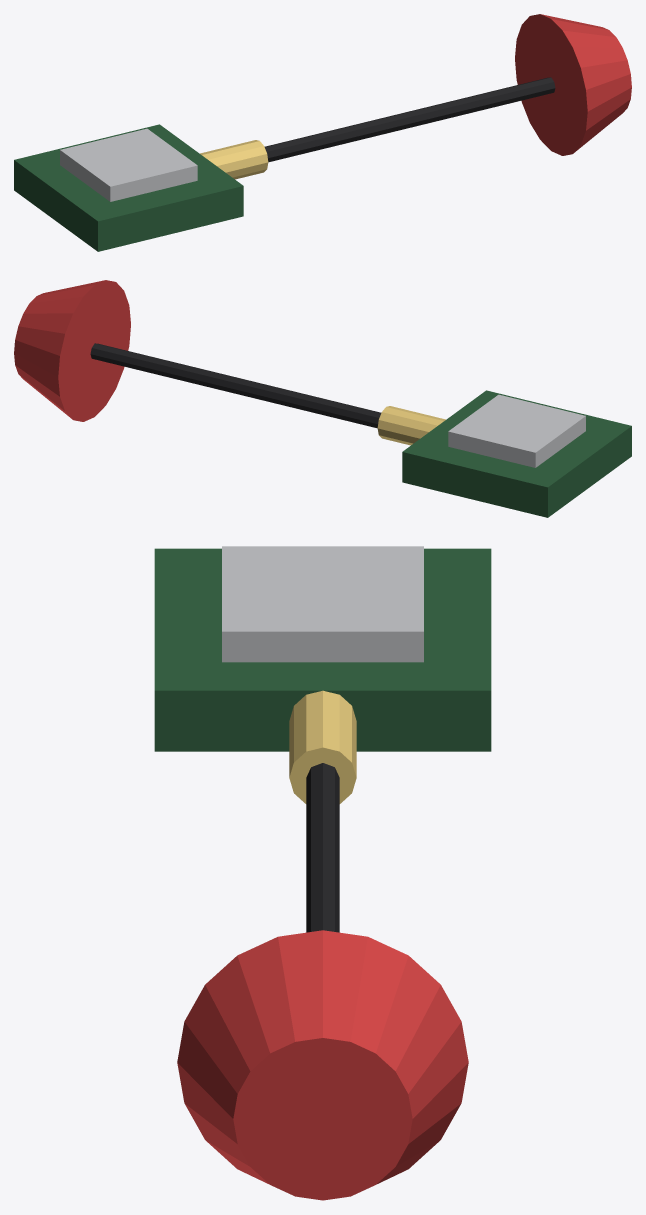
File: Vtx_58_800.glb
The picture shows the model from 3 angles, top to bottom: view 1: azimuth 30°, elevation 25°; view 2: azimuth 150°, elevation 25°; view 3: azimuth 270°, elevation 25°; orthographic projection. The views are drawn at different scales.
Visible parts, largest first — view 1: Vtx_58_800, Cap, Shield, Coax, SMA; view 2: Vtx_58_800, Cap, Shield, Coax, SMA; view 3: Cap, Vtx_58_800, Shield, SMA, Coax.
Boxes of the visible parts, left/top/right/bottom form: Vtx_58_800: left=14, top=124, right=243, bottom=251; Cap: left=515, top=14, right=631, bottom=155; Shield: left=60, top=128, right=197, bottom=201; Coax: left=264, top=77, right=555, bottom=162; SMA: left=200, top=140, right=268, bottom=179; Vtx_58_800: left=402, top=390, right=631, bottom=517; Cap: left=14, top=280, right=130, bottom=421; Shield: left=448, top=394, right=585, bottom=467; Coax: left=90, top=343, right=381, bottom=428; SMA: left=377, top=406, right=445, bottom=445; Cap: left=177, top=930, right=468, bottom=1200; Vtx_58_800: left=154, top=548, right=491, bottom=751; Shield: left=222, top=546, right=423, bottom=662; SMA: left=289, top=690, right=356, bottom=803; Coax: left=306, top=763, right=339, bottom=932.
Size of the model in its own units: 0.114 by 0.026 by 0.03.
